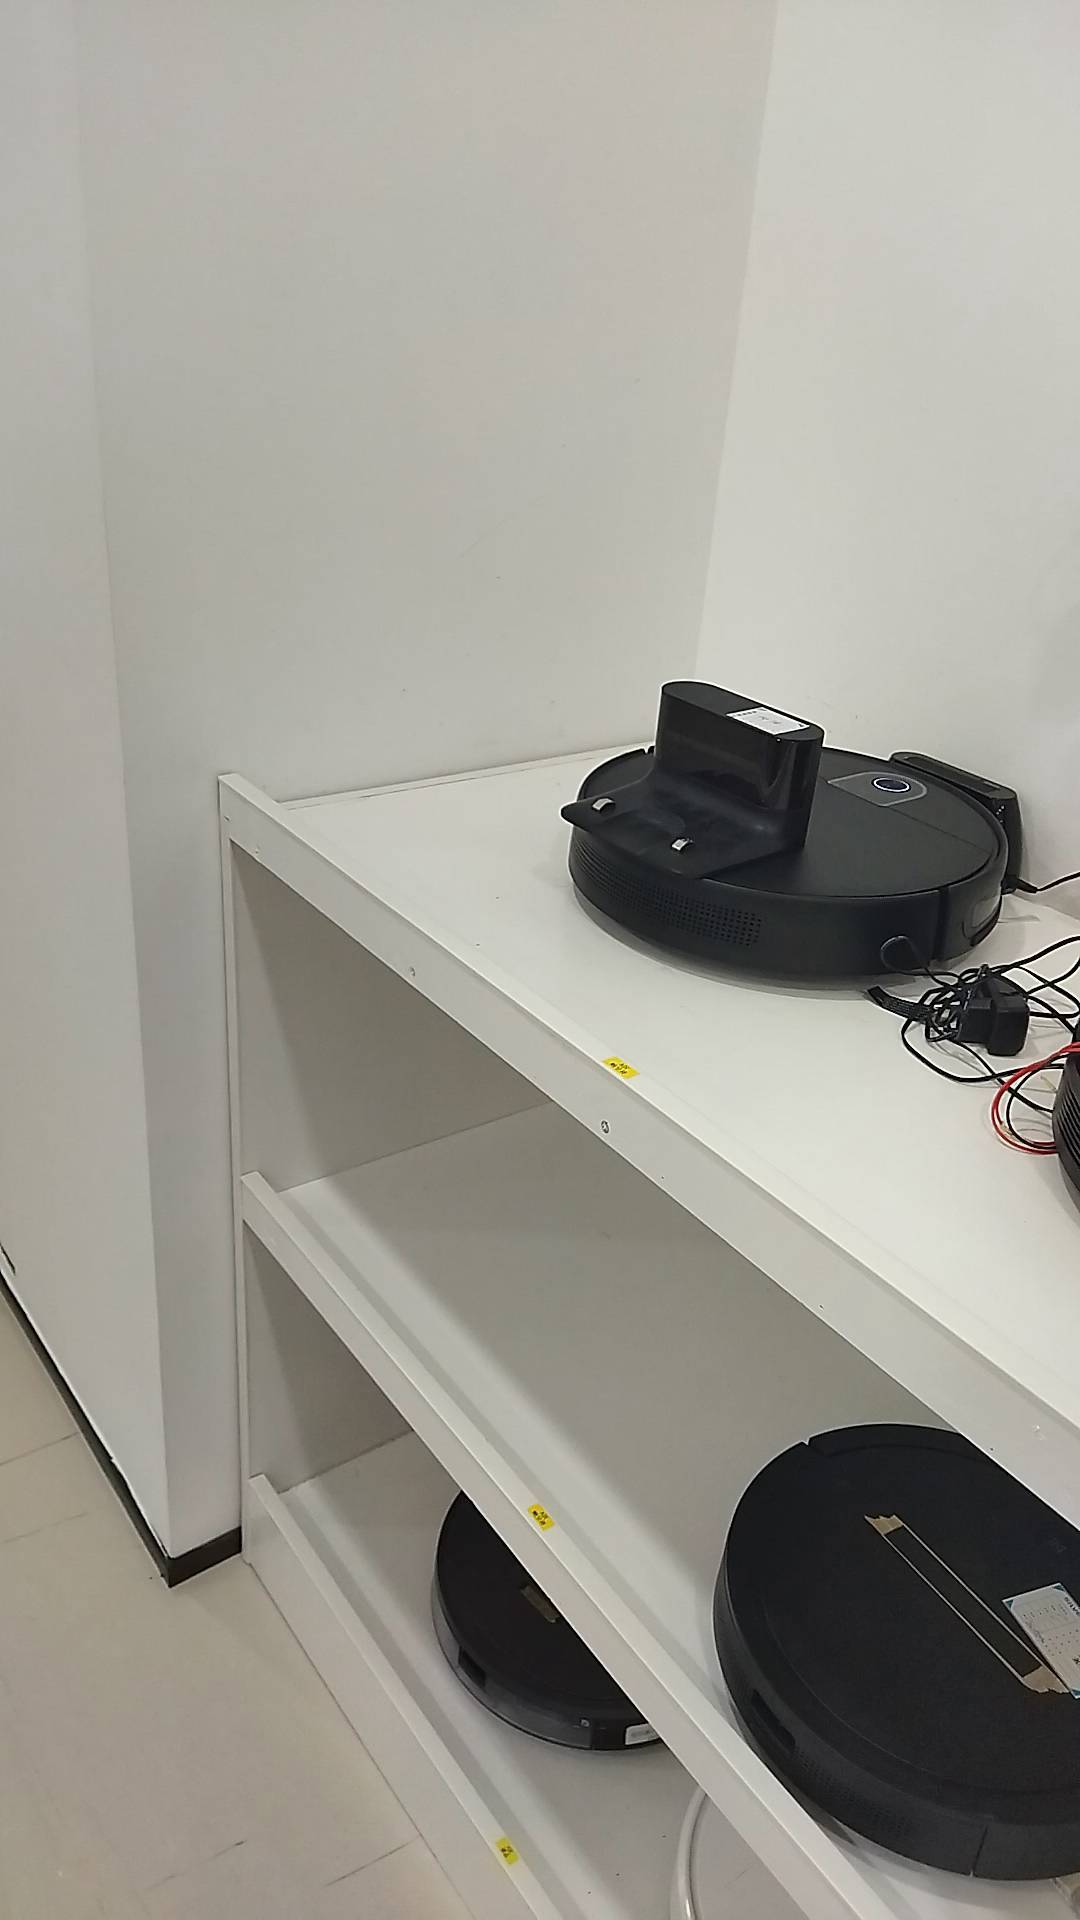recharge seat: (560, 679, 829, 884)
